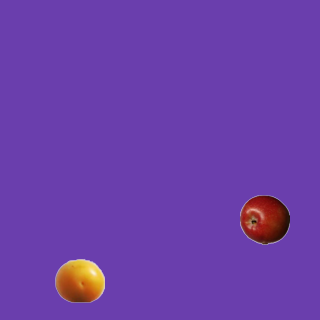Apple Braeburn: (239, 194, 289, 244)
Cherry Wax Yellow: (54, 255, 104, 305)
